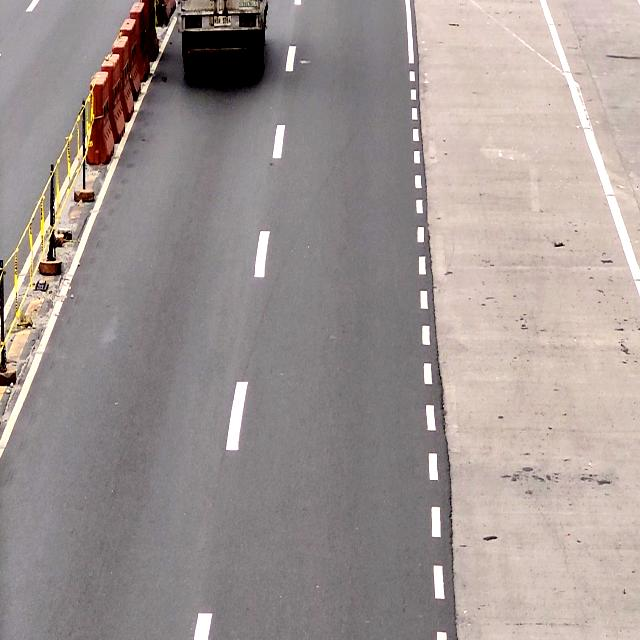Truck: (170, 0, 270, 83)
